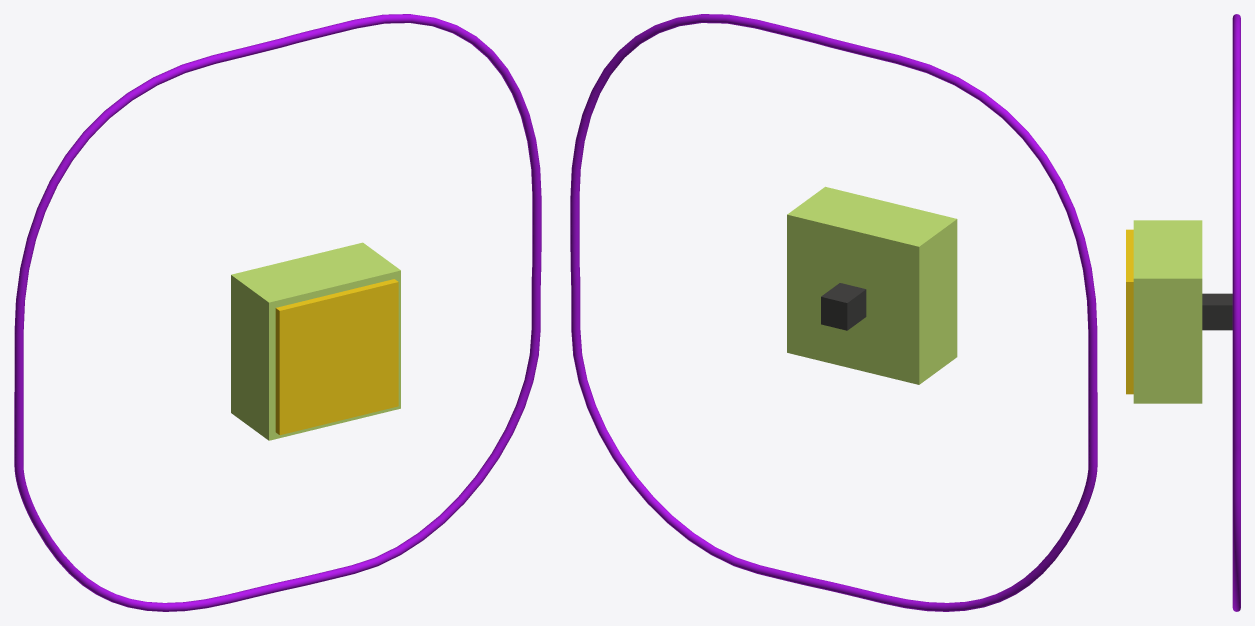
File: leber-lgp-97.glb
3 renders of one model, left to right at view 1: azimuth 30°, elevation 25°; view 2: azimuth 150°, elevation 25°; view 3: azimuth 270°, elevation 25°, orthographic. The views are drawn at different scales.
Parts seen in each view (by area): view 1: _outline.002, Cube.028, Cube.027; view 2: Cube.027, _outline.002, Cube.029; view 3: Cube.027, _outline.002, Cube.028, Cube.029.
Boxes of the visible parts, box(x1,y1,x2,y2) form: _outline.002: box(14, 14, 541, 611); Cube.028: box(275, 279, 398, 435); Cube.027: box(231, 242, 400, 440); Cube.027: box(787, 186, 957, 384); _outline.002: box(570, 14, 1097, 611); Cube.029: box(821, 283, 866, 330); Cube.027: box(1133, 220, 1202, 403); _outline.002: box(1232, 14, 1240, 611); Cube.028: box(1126, 229, 1133, 394); Cube.029: box(1202, 293, 1232, 330).
Bounding box in the file's own units: 3.98 × 4 × 0.8343.
